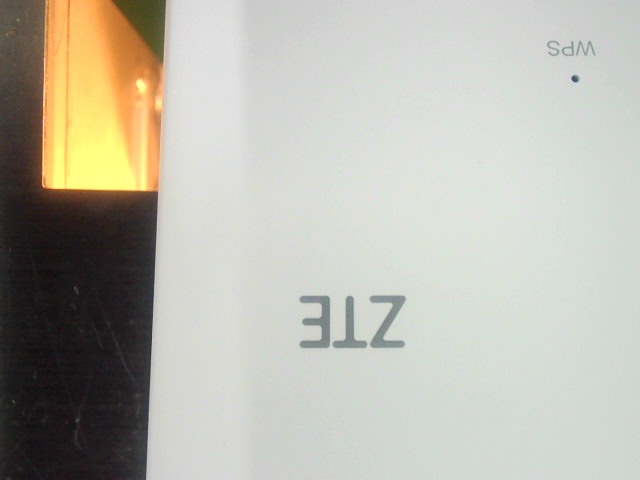AO_ZTESmall: (285, 286, 416, 358)
